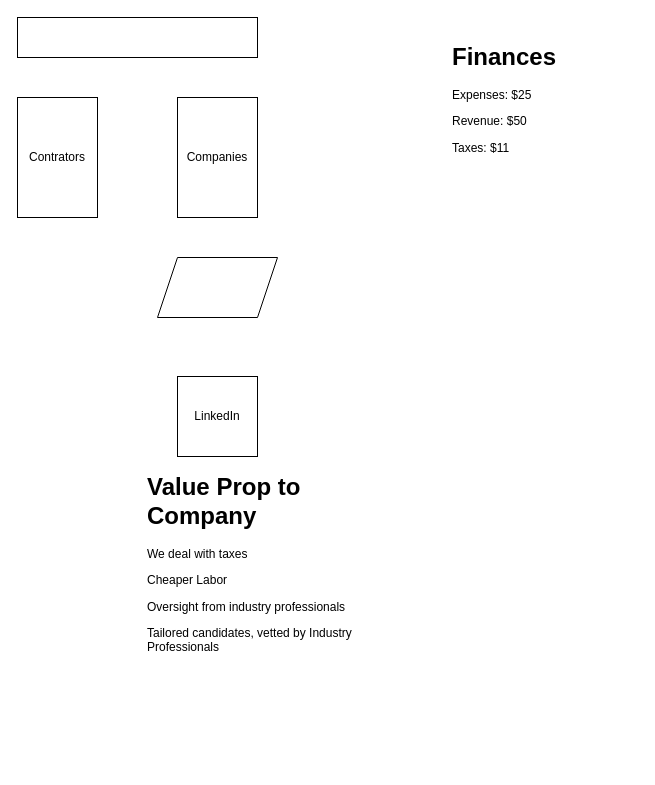
This 655x785 diagram has some shape labels left out. The box of each missing label's shape, as (x1, y1, x2, y2) in pixels:
MVP Working Name: WebGuru: (16, 16, 258, 58)
webguru.ca: (156, 256, 278, 318)
